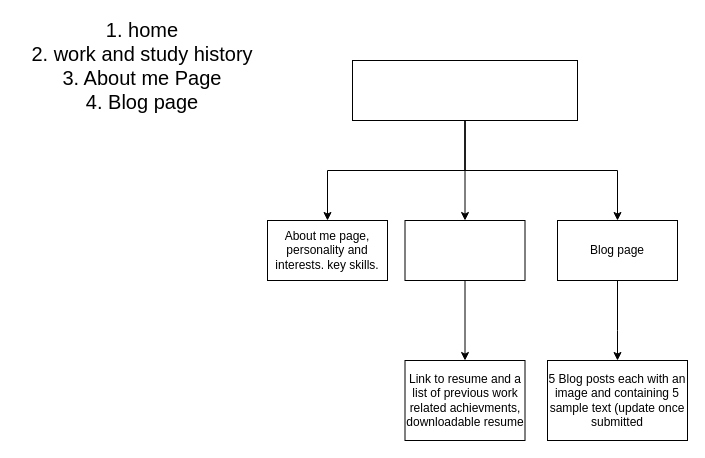
This 705x458 diagram has some shape labels left out. The centre of each missing label's shape, as x and y in pixels:
"Home page" goes at (465,90).
"Work/study" goes at (464,250).
